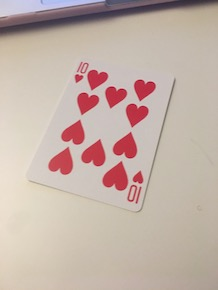TenOfHearts: (25, 55, 177, 214)
